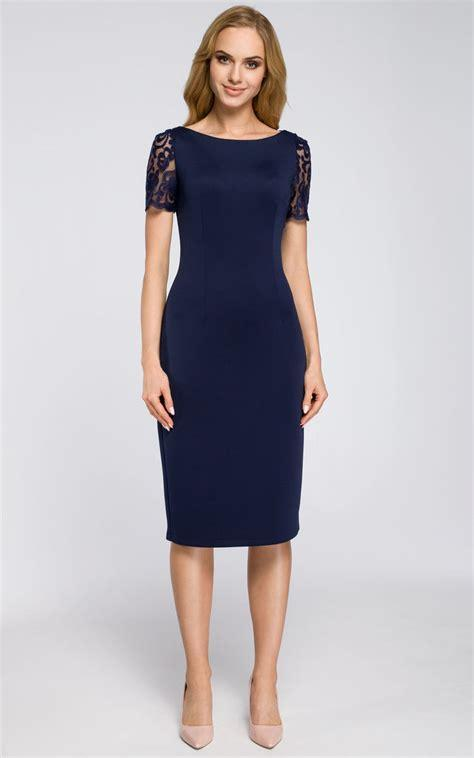dress: (142, 126, 312, 548)
